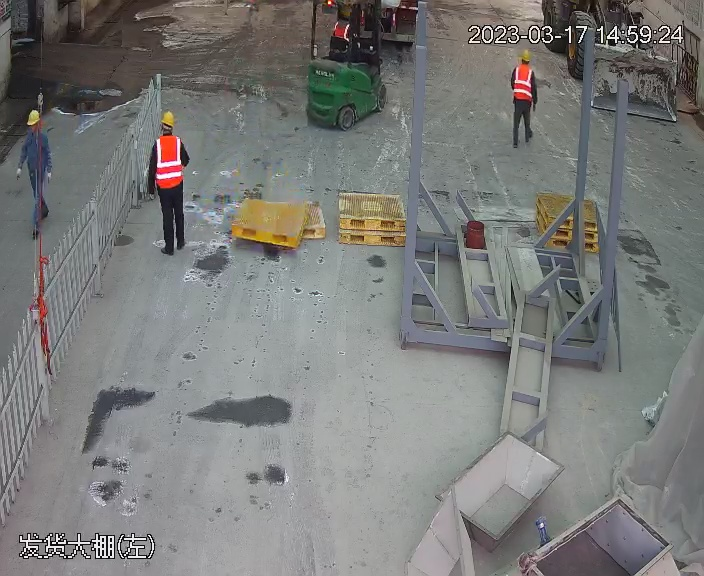head: (152, 110, 187, 157), (22, 109, 51, 148), (332, 7, 356, 36), (512, 50, 534, 78)
helmet: (25, 108, 42, 126), (160, 110, 176, 126), (338, 6, 351, 18), (519, 51, 531, 61)
people: (147, 109, 191, 256), (12, 109, 56, 237), (509, 49, 538, 149)
